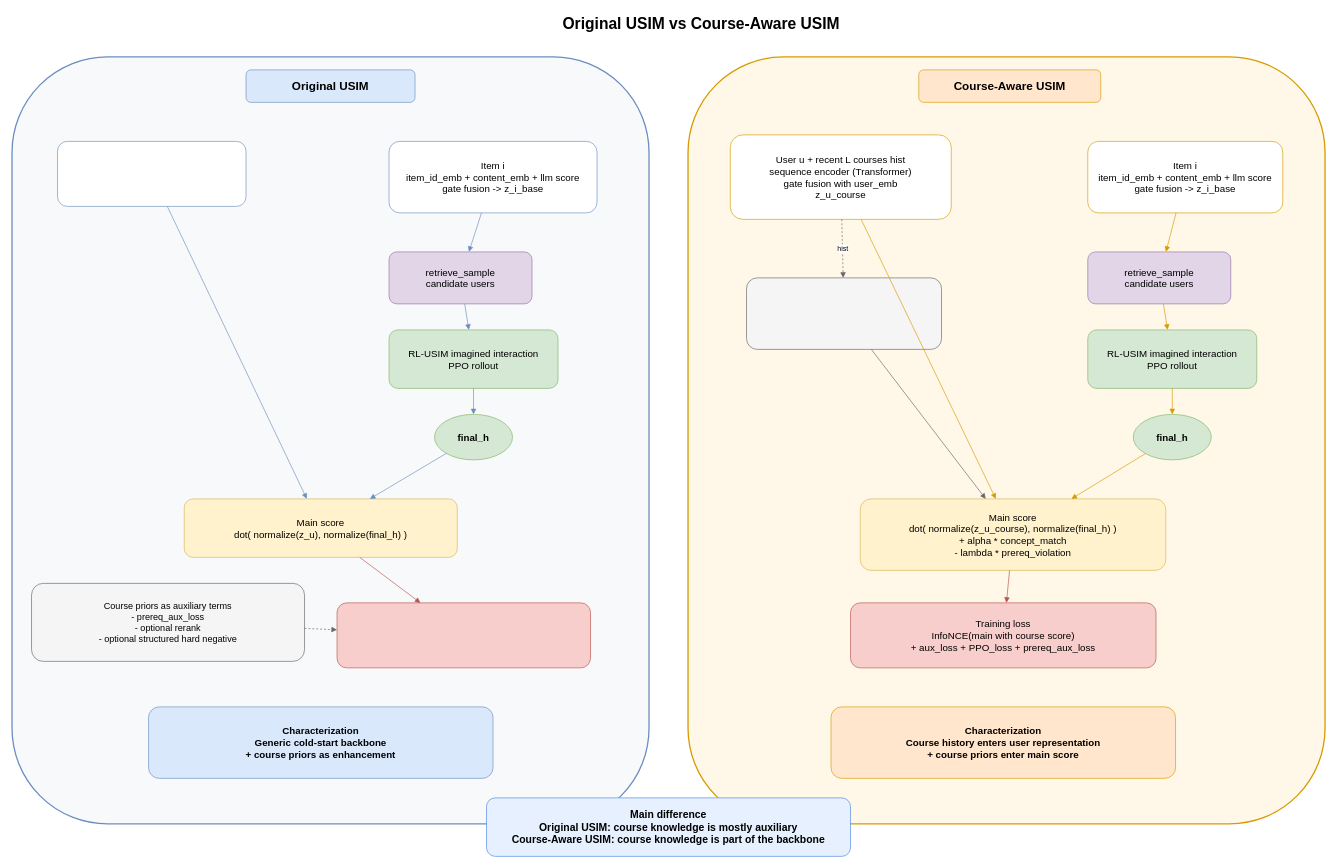
The diagram is 1336 pixels wide and 868 high, and some of its shapes have lost their labels. The shapes that lost their labels are listed below. From the top down, each one's centre as x and y in pixels, then its label:
(x=151, y=173): User u user_emb -> user_proj z_u
(x=844, y=313): Build seen_mat from hist concept overlap prereq violation
(x=463, y=635): Training loss InfoNCE + aux_loss + PPO_loss + prereq_aux_loss
